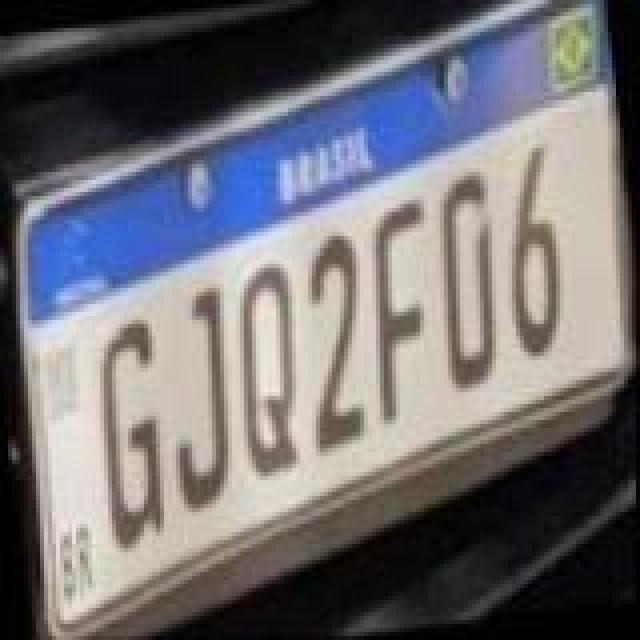2: (290, 228, 378, 456)
6: (492, 140, 572, 356)
D: (426, 168, 514, 392)
F: (356, 194, 448, 422)
G: (84, 316, 180, 556)
J: (154, 284, 246, 516)
Q: (226, 256, 314, 476)
